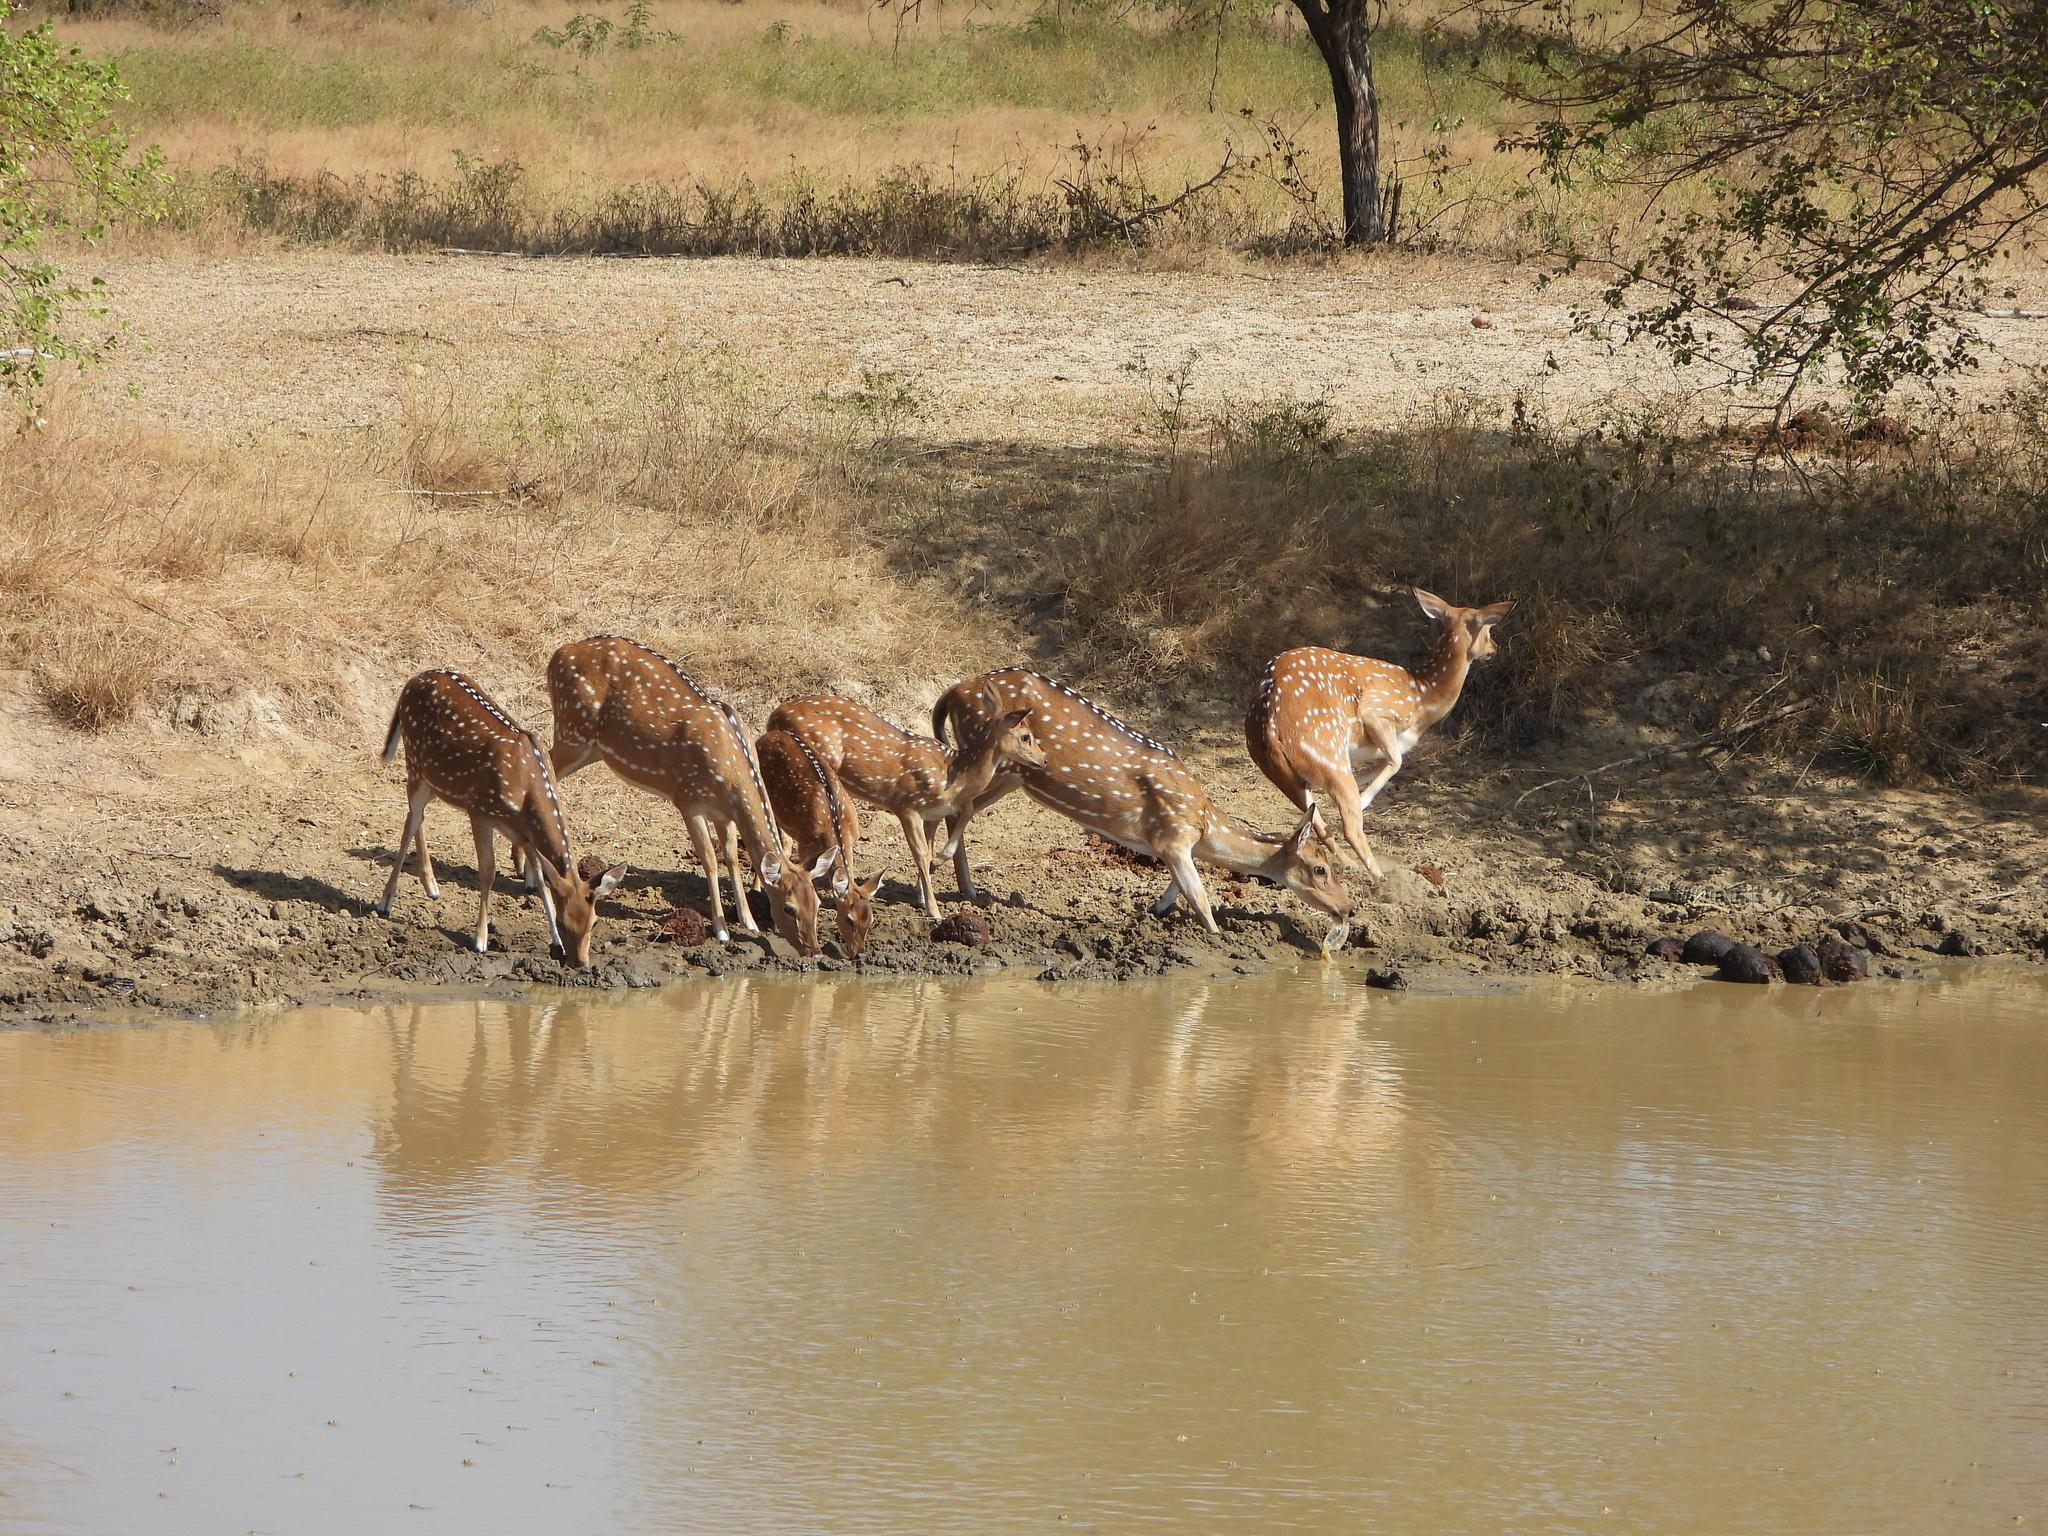Deer: (934, 668, 1351, 936), (547, 636, 843, 957), (1243, 589, 1513, 874), (377, 670, 626, 966), (768, 676, 1047, 918), (755, 729, 884, 957)
